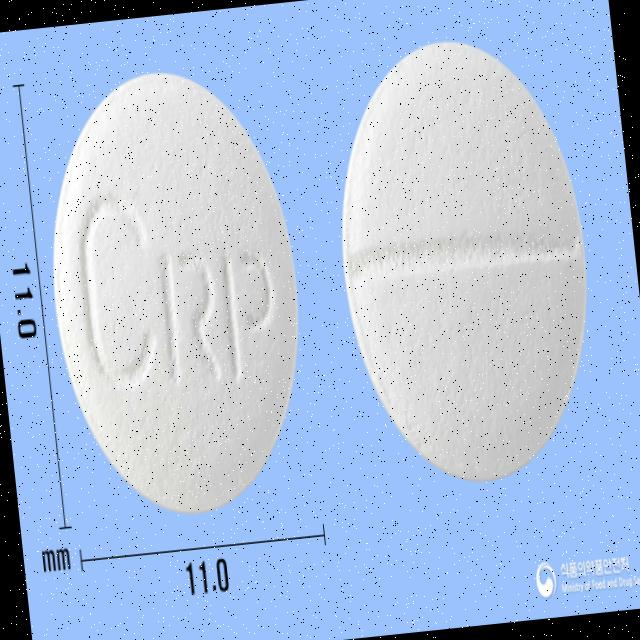Ciropan: (27, 54, 326, 533), (316, 18, 611, 500)
